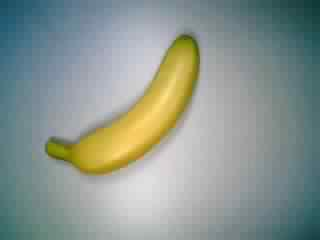banana: (41, 30, 201, 179)
